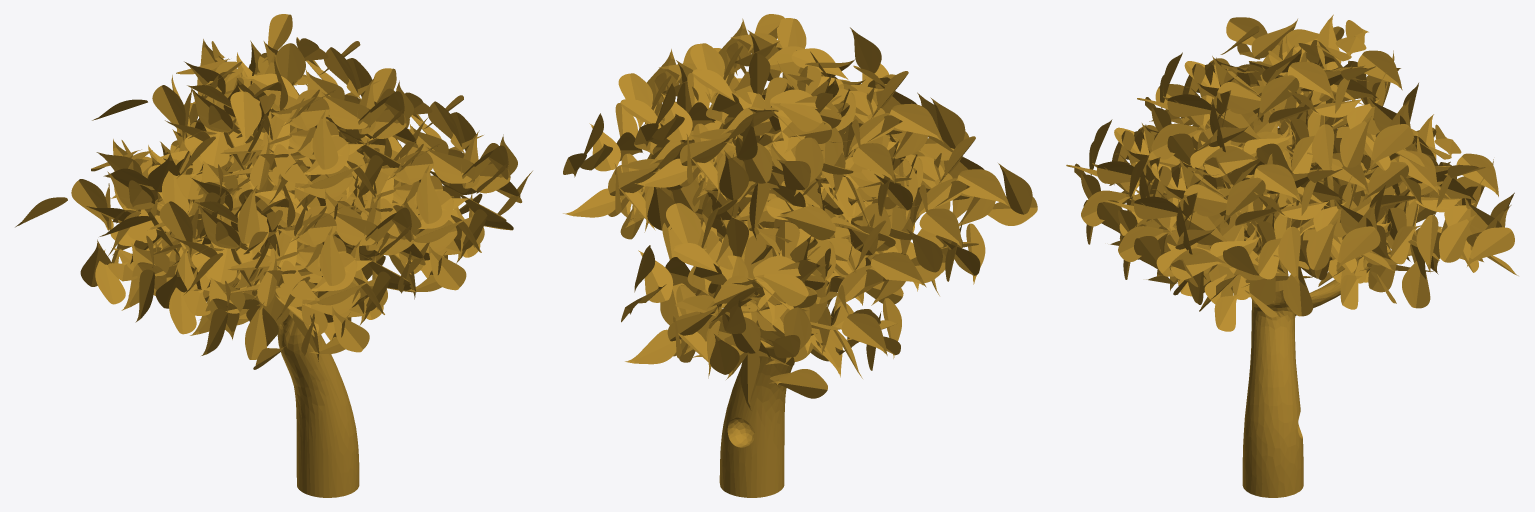
File: tree 4.fbx
3 renders of one model, left to right at view 1: azimuth 30°, elevation 25°; view 2: azimuth 150°, elevation 25°; view 3: azimuth 270°, elevation 25°, orthographic. The views are drawn at different scales.
Parts seen in each view (by area): view 1: tree_4; view 2: tree_4; view 3: tree_4.
Boxes of the visible parts, x1=… form: tree_4: x1=15, y1=14, x2=532, y2=497; tree_4: x1=563, y1=14, x2=1037, y2=497; tree_4: x1=1066, y1=14, x2=1518, y2=497.
Size of the model in its own units: 1098 by 1194 by 1161.
